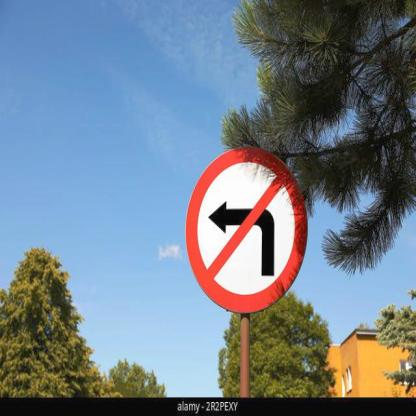No left turn: (182, 147, 308, 312)
